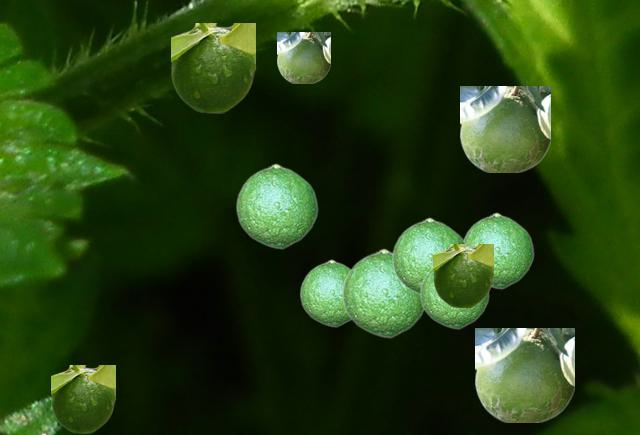dalandan: (475, 328, 573, 421), (460, 86, 549, 171), (341, 248, 424, 337), (171, 23, 254, 112), (235, 163, 317, 248), (391, 217, 466, 294), (463, 212, 533, 288), (51, 365, 114, 432), (419, 267, 488, 328), (433, 244, 492, 307), (299, 259, 350, 326), (277, 32, 329, 82)
